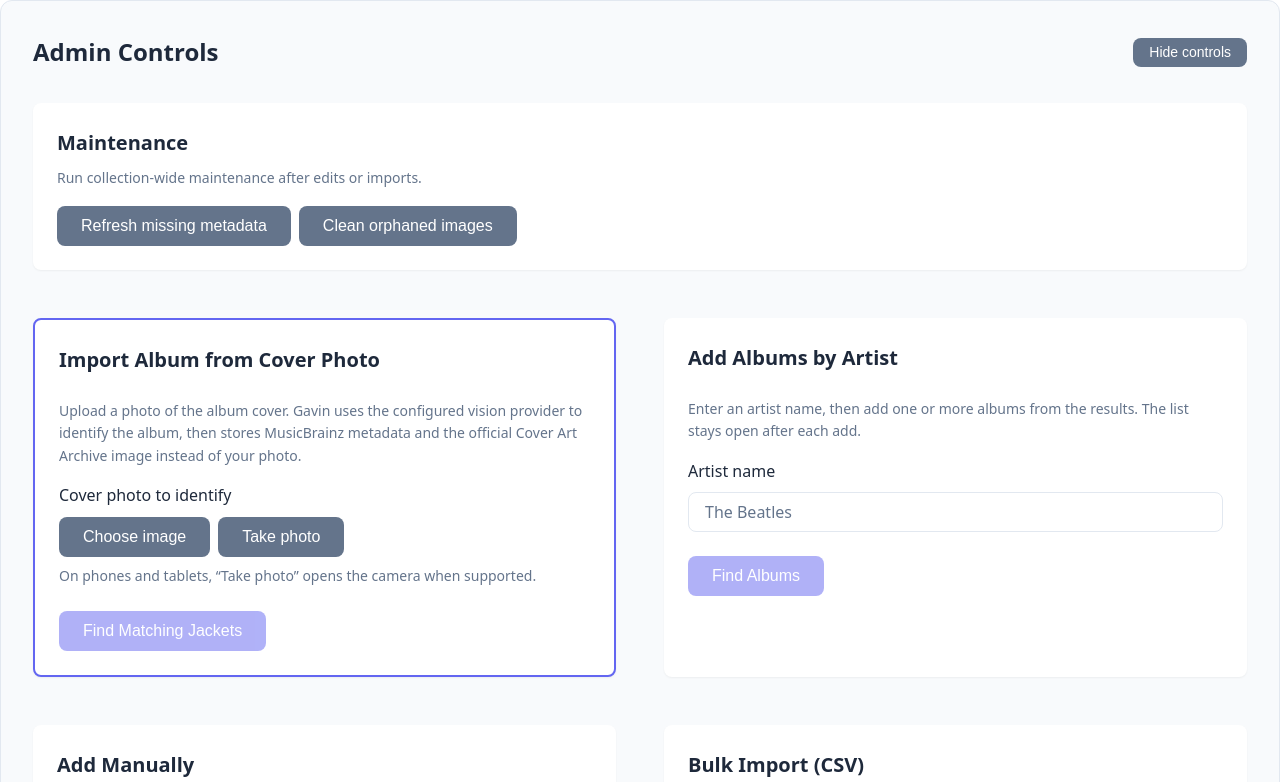
Scenario: AdminPanel › runs metadata refresh and orphaned image cleanup actions
Click the button "Refresh missing metadata" at (174, 226), box top-left (57, 206), bottom-right (291, 246)
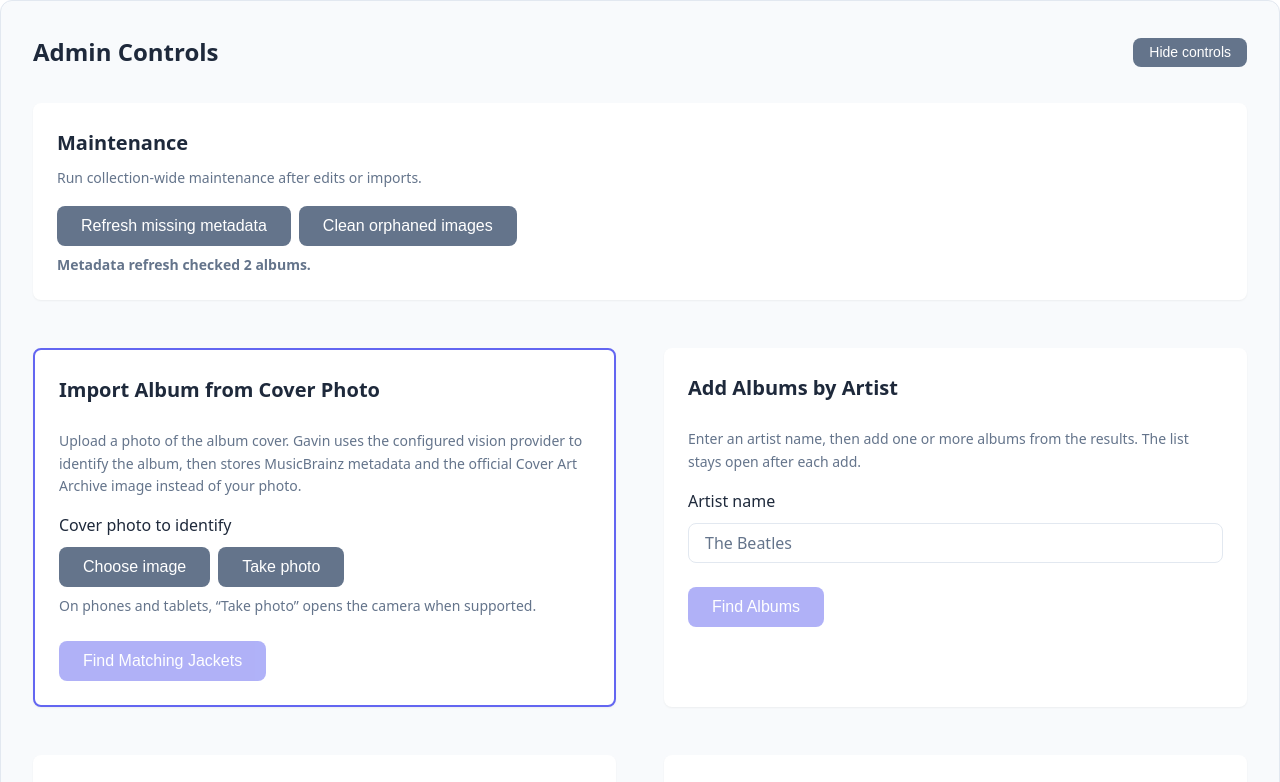
expect the text "Metadata refresh checked 2 albums." is shown: met, box top-left (57, 255), bottom-right (311, 274)
Click the button "Clean orphaned images" at (408, 226), box top-left (299, 206), bottom-right (517, 246)
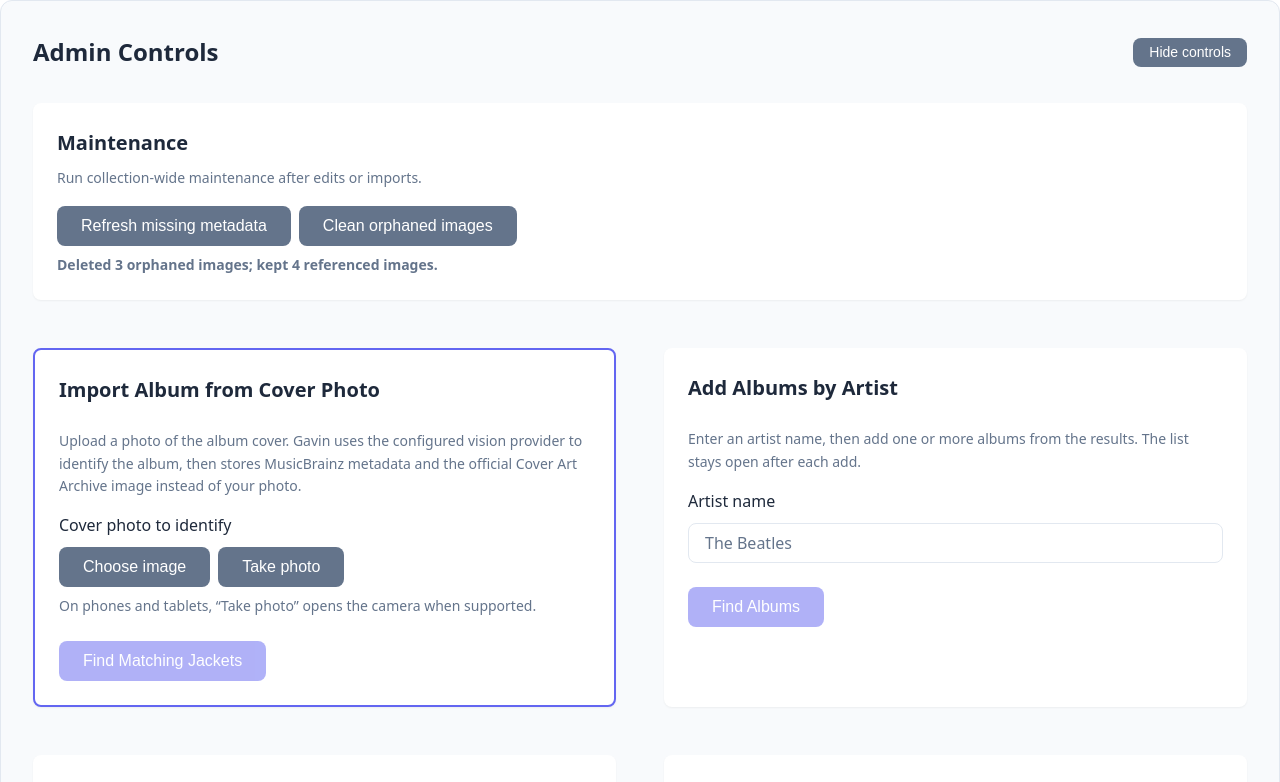
expect the text "Deleted 3 orphaned images; kept 4 referenced images." is shown: met, box top-left (57, 255), bottom-right (438, 274)
